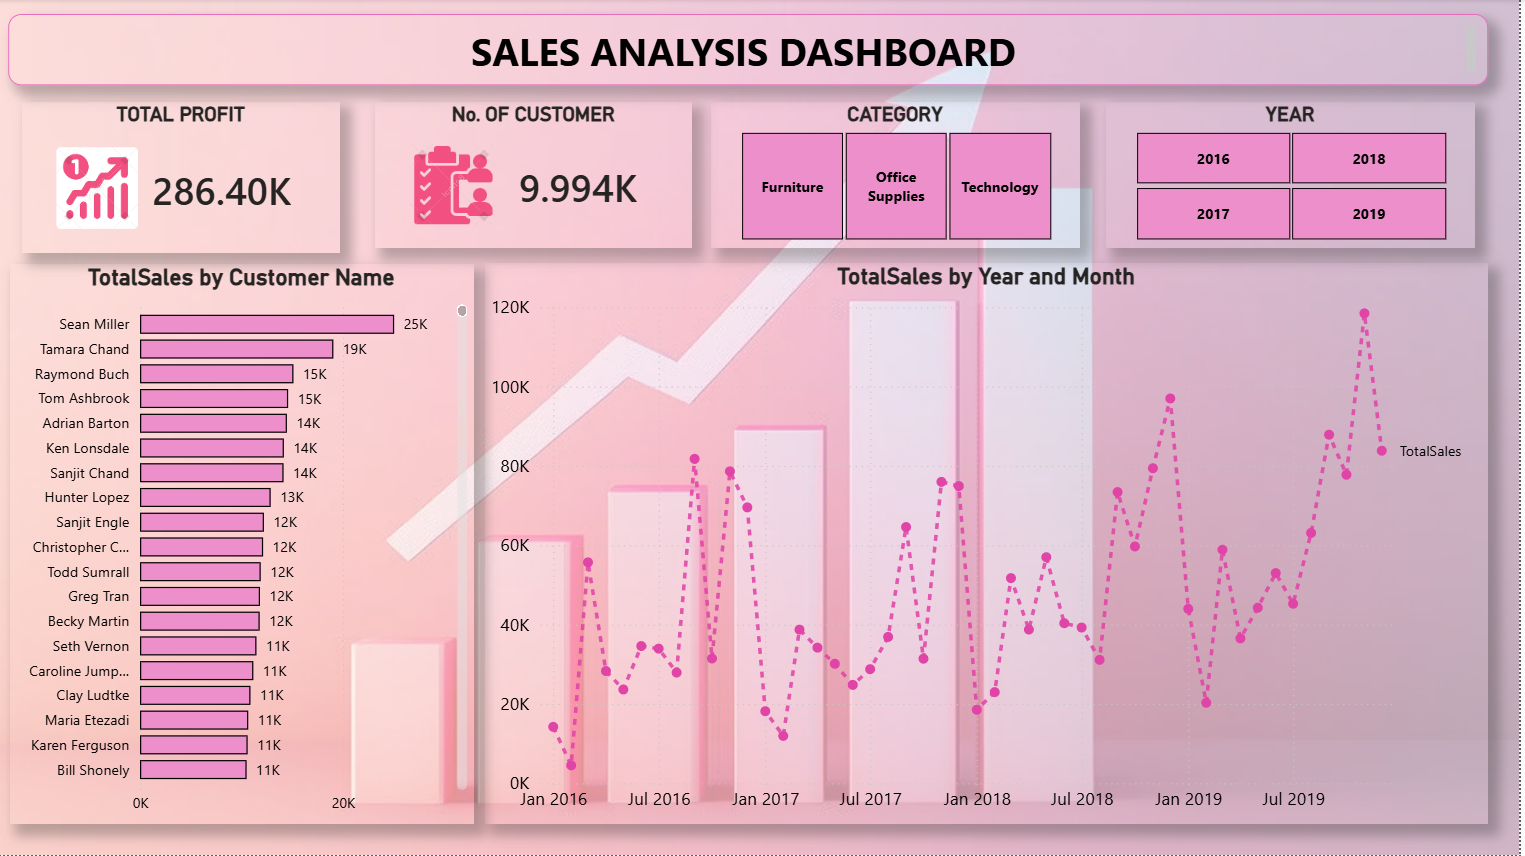

The dashboard page shown, as its layout file describes it:
{"tool":"powerbi","page":{"name":"Page 1","canvas":[1280,720],"ordinal":0},"visuals":[{"type":"clusteredBarChart","fields":{"Category":["Sales.Customer Name"],"Y":["Sales.TotalSales"]},"box":[10,222.9,390,471.4],"z":0},{"type":"lineChart","fields":{"Category":["Sales.Order Date.Variation.Date Hierarchy.Year","Sales.Order Date.Variation.Date Hierarchy.Month"],"Y":["Sales.TotalSales"]},"box":[410.3,222.3,843.9,472],"z":1000},{"type":"textbox","box":[9.6,12.3,1244.6,60.4],"z":2000},{"type":"cardVisual","title":"TOTAL PROFIT","fields":{"Data":["Sales.TotalProfit"]},"box":[21.4,85.7,267.1,127],"z":3000},{"type":"cardVisual","title":"No. OF CUSTOMER","fields":{"Data":["CountNonNull(Sales.Customer ID)"]},"box":[317.1,85.7,267.1,122.9],"z":4000},{"type":"slicer","title":"CATEGORY","fields":{"Values":["Sales.Category"]},"box":[600,85.7,310,122.9],"z":5000},{"type":"slicer","title":"YEAR","fields":{"Values":["Sales.Order Date.Variation.Date Hierarchy.Year"]},"box":[932.9,85.7,310,122.9],"z":6000}]}

Visuals, with their boxes in screenshot pixels (x1, y1, x2, y2), scaled from the page's 1280x720 canvas onto the 1525x856 screenshot:
clusteredBarChart - Sales.Customer Name x Sales.TotalSales: rect(12, 265, 477, 825)
lineChart - Sales.Order Date.Variation.Date Hierarchy.Year x Sales.Order Date.Variation.Date Hierarchy.Month: rect(489, 264, 1494, 825)
textbox: rect(11, 15, 1494, 86)
"TOTAL PROFIT" cardVisual: rect(25, 102, 344, 253)
"No. OF CUSTOMER" cardVisual: rect(378, 102, 696, 248)
"CATEGORY" slicer: rect(715, 102, 1084, 248)
"YEAR" slicer: rect(1111, 102, 1481, 248)
